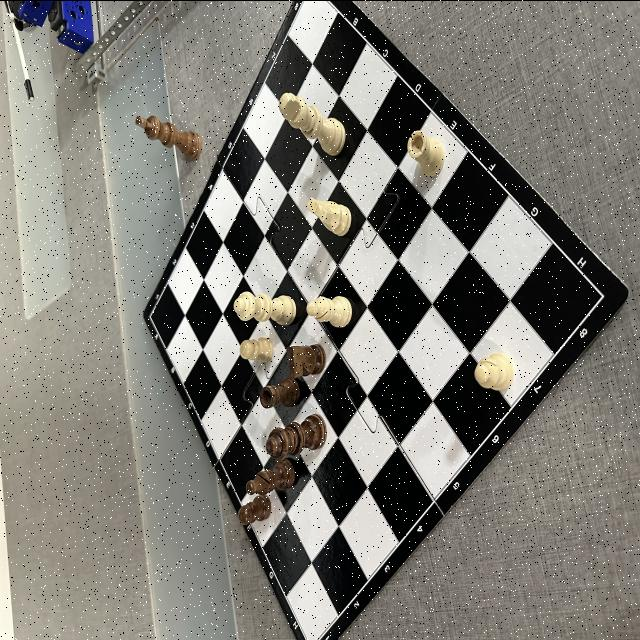Black-Bishop: (246, 458, 296, 493)
Black-King: (134, 114, 202, 160)
Black-Knight: (286, 343, 326, 377)
Black-Pawn: (238, 493, 272, 524)
Black-Queen: (265, 412, 327, 459)
Black-Rook: (260, 377, 300, 408)
White-Bishop: (474, 350, 514, 390), (306, 294, 352, 327)
White-King: (278, 91, 346, 156)
White-Knight: (306, 196, 352, 236)
White-Pawn: (240, 336, 274, 362)
White-Queen: (233, 290, 296, 326)
White-Rook: (407, 129, 445, 176)
